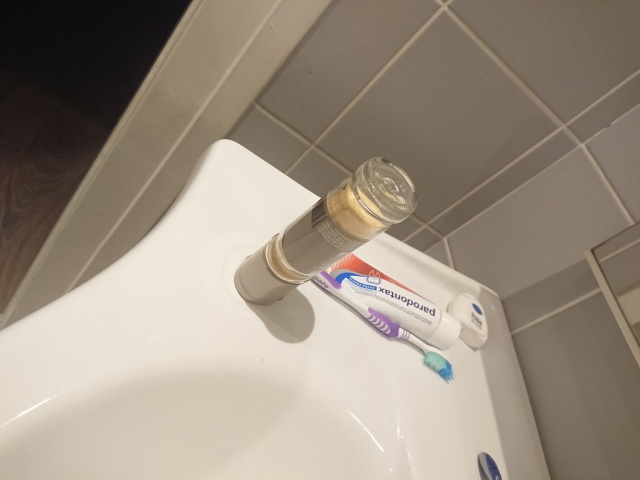Kotanyi Garlic Granules 70g: (232, 154, 422, 308)
